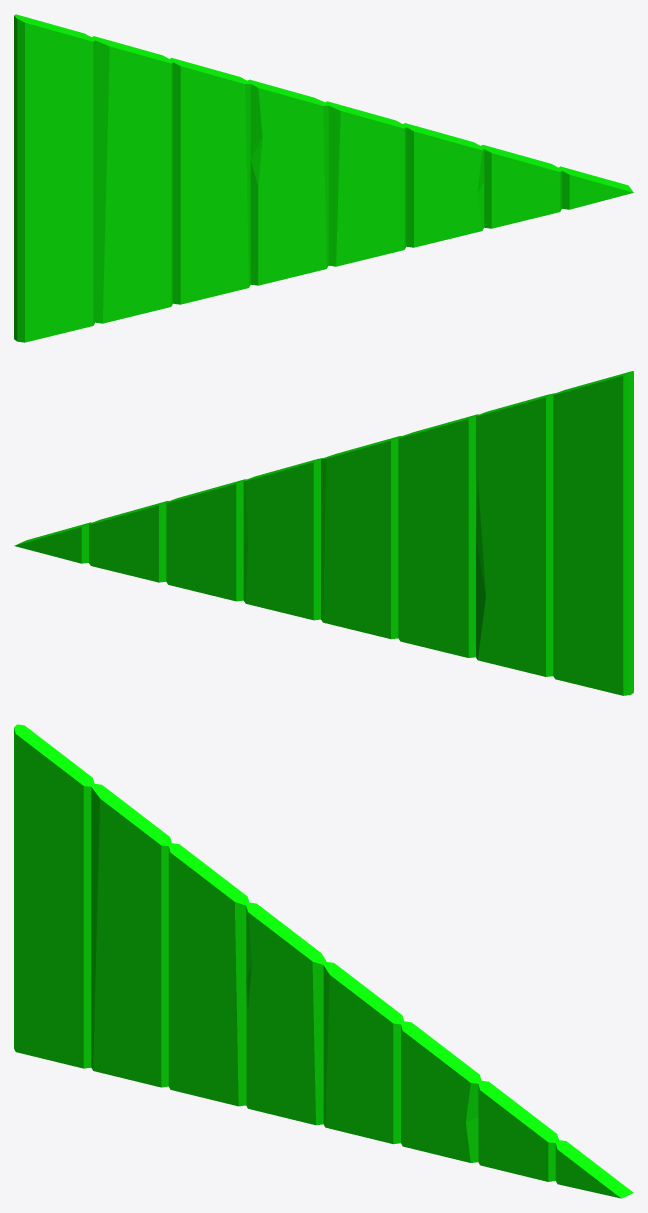
The model's file is SM_Wall_Deco_Moderate_Wood_A_2x1m.fbx.
The picture shows the model from 3 angles, top to bottom: view 1: azimuth 30°, elevation 25°; view 2: azimuth 150°, elevation 25°; view 3: azimuth 330°, elevation 25°; orthographic projection.
Parts seen in each view (by area): view 1: wall-deco-moderate-wood-a-2x1m; view 2: wall-deco-moderate-wood-a-2x1m; view 3: wall-deco-moderate-wood-a-2x1m.
Boxes of the visible parts, left/top/right/bottom form: wall-deco-moderate-wood-a-2x1m: left=14, top=14, right=633, bottom=342; wall-deco-moderate-wood-a-2x1m: left=14, top=371, right=633, bottom=695; wall-deco-moderate-wood-a-2x1m: left=14, top=724, right=633, bottom=1198.
Size of the model in its own units: 1.98 by 0.9938 by 0.05.
